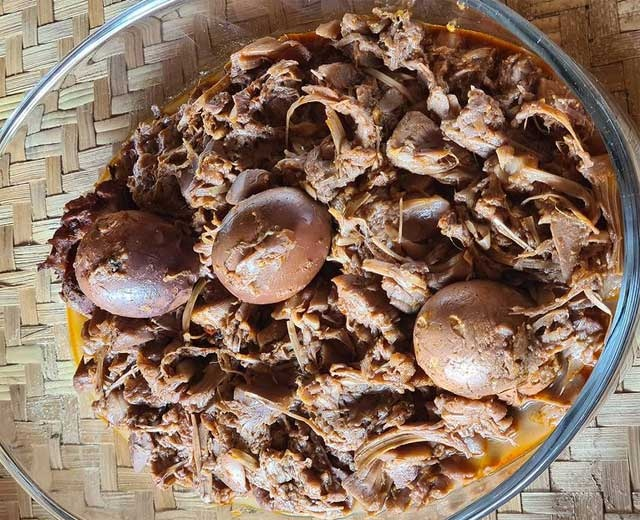gudeg: (44, 31, 617, 499)
